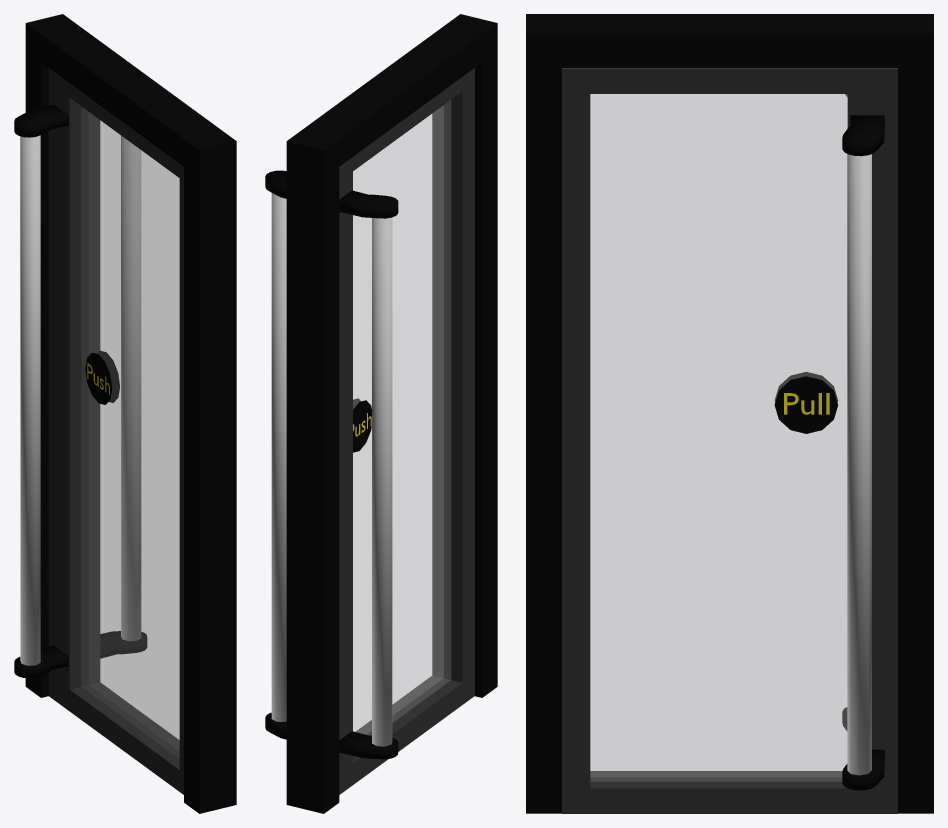
Rendered from 3DModel_Door.glb.
3 views of the same model, side by side, from view 1: azimuth 30°, elevation 25°; view 2: azimuth 150°, elevation 25°; view 3: azimuth 270°, elevation 25° (orthographic). The views are drawn at different scales.
Parts seen in each view (by area): view 1: Door, C_Eingangstür; view 2: Door, C_Eingangstür; view 3: Door, C_Eingangstür.
Boxes of the visible parts, <box> form: Door: <box>14,68,183,794</box>; C_Eingangstür: <box>25,14,236,813</box>; Door: <box>265,68,474,794</box>; C_Eingangstür: <box>286,14,497,813</box>; Door: <box>562,68,897,813</box>; C_Eingangstür: <box>526,14,933,813</box>.
Bounding box in the file's own units: 0.4043 × 1.99 × 0.9425.
2 materials, 1 textured.
